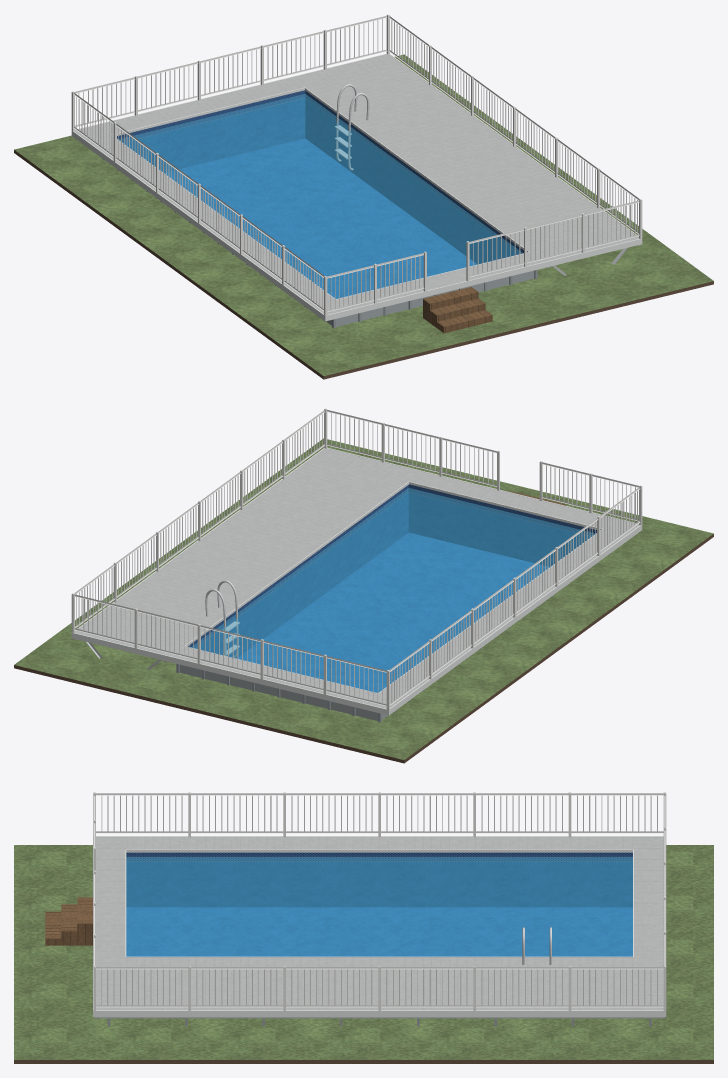
Rendered from kayak-pool-16x32-gray-side-rec-fence.7d2323346c.glb.
The picture shows the model from 3 angles, top to bottom: view 1: azimuth 30°, elevation 25°; view 2: azimuth 150°, elevation 25°; view 3: azimuth 270°, elevation 25°; orthographic projection. The views are drawn at different scales.
Parts seen in each view (by area): view 1: water, ground, deck, liner_floor, fence, liner_wall, fascia, soil, steps, wall, steel; view 2: water, ground, deck, liner_floor, fence, liner_wall, fascia, soil, wall, steel; view 3: water, ground, deck, liner_wall, liner_floor, fence, fascia, soil, steps, stud.
Boxes of the visible parts, x1,y1,x2,y2 form: water: (119,94,522,298); ground: (14,54,713,375); deck: (74,54,639,314); liner_floor: (164,138,476,298); fence: (71,14,642,315); liner_wall: (117,90,523,263); fascia: (71,53,642,321); soil: (14,150,713,379); steps: (423,287,492,333); wall: (326,270,534,326); steel: (334,84,369,170); water: (191,488,594,692); ground: (14,438,713,759); deck: (75,448,639,708); liner_floor: (238,532,549,692); fence: (71,408,642,709); liner_wall: (188,484,596,658); fascia: (71,447,642,715); soil: (14,534,713,763); wall: (179,664,387,720); steel: (205,580,239,657); water: (126,857,632,956); ground: (14,845,713,1059); deck: (96,836,663,1010); liner_wall: (126,852,632,907); liner_floor: (126,907,632,956); fence: (93,792,666,1010); fascia: (93,836,666,1016); soil: (14,1060,713,1063); steps: (45,897,92,945); stud: (94,1017,664,1026).
Bounding box in the file's own units: 9.75 × 2.15 × 13.4.
Materials: 13 (5 with a texture image).
